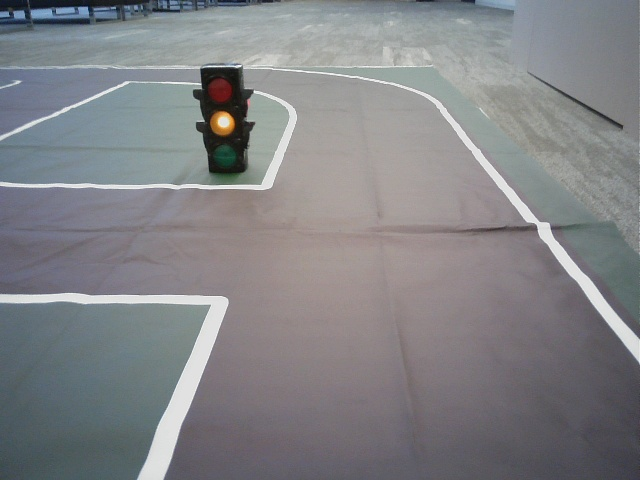yellow: (203, 73, 242, 167)
